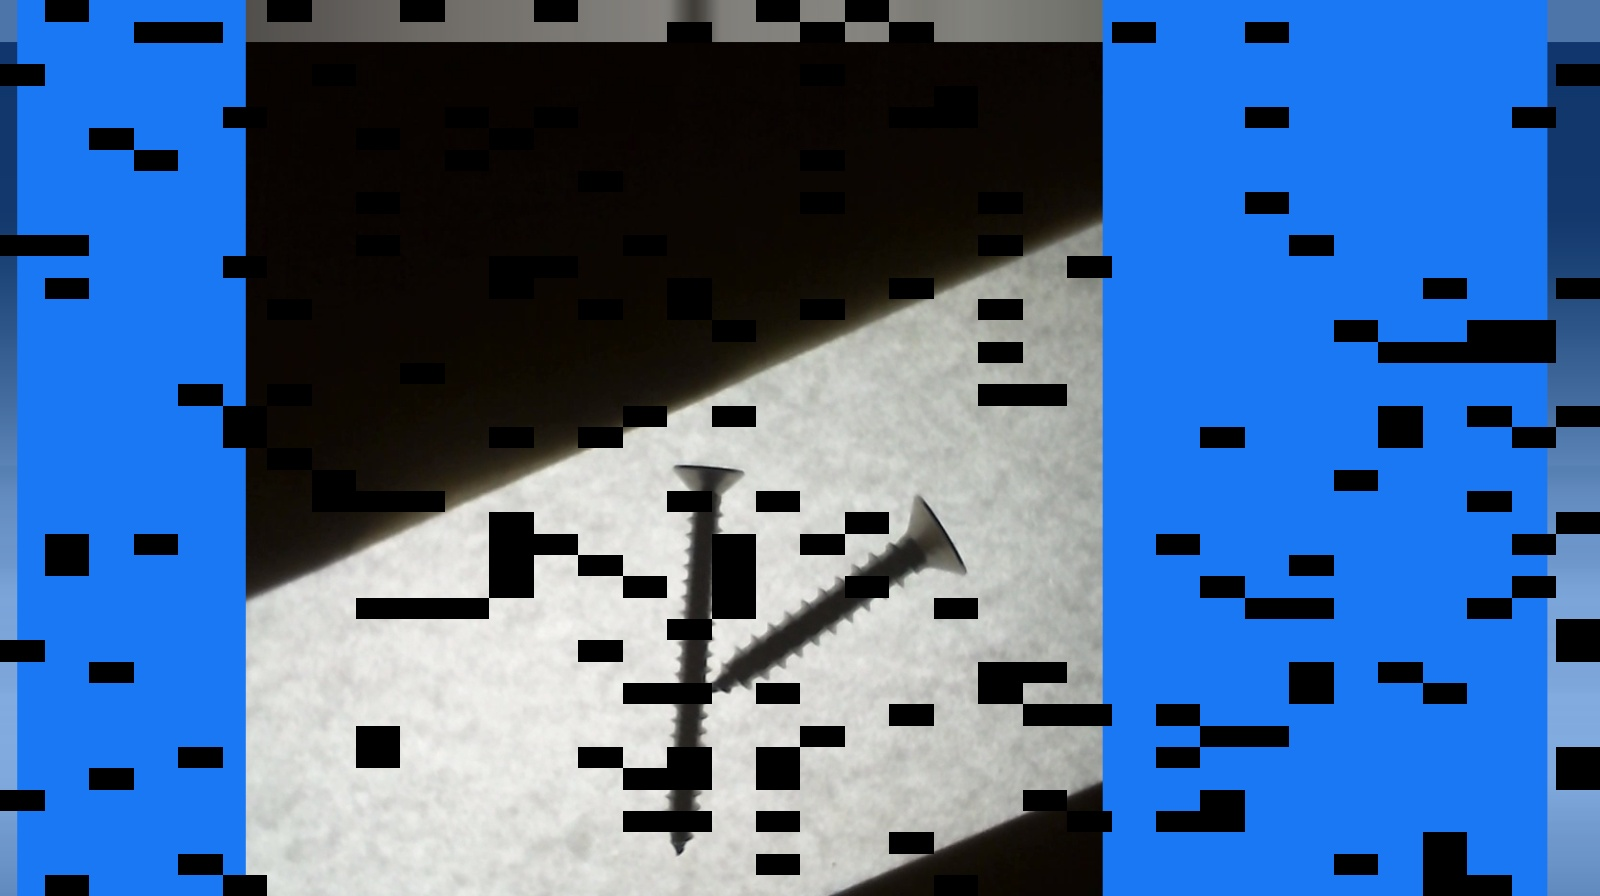S001: (708, 489, 973, 696)
S002: (657, 460, 749, 858)
